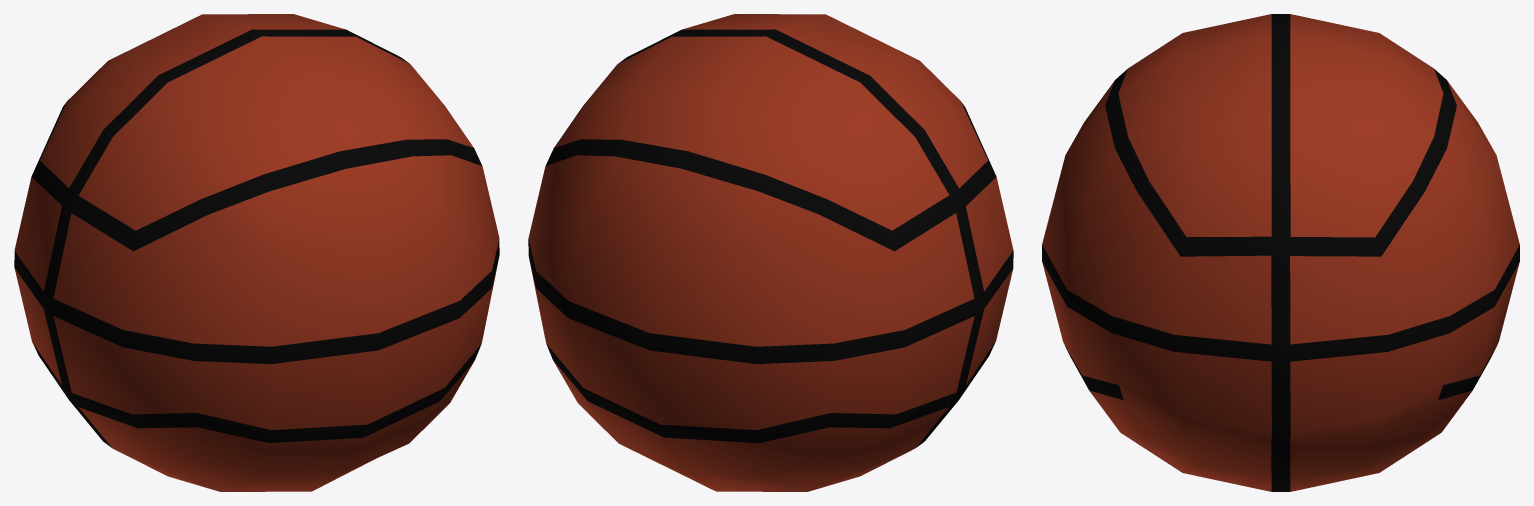
File: Basketball.fbx
The picture shows the model from 3 angles, left to right: view 1: azimuth 30°, elevation 25°; view 2: azimuth 150°, elevation 25°; view 3: azimuth 270°, elevation 25°; orthographic projection.
Visible parts, largest first — view 1: Box008; view 2: Box008; view 3: Box008.
Part boxes in pixels (x1,y1,x2,y2): Box008: (14,14,499,491); Box008: (528,14,1013,491); Box008: (1042,14,1519,491).
Size of the model in its own units: 49.12 by 49.55 by 49.55.
